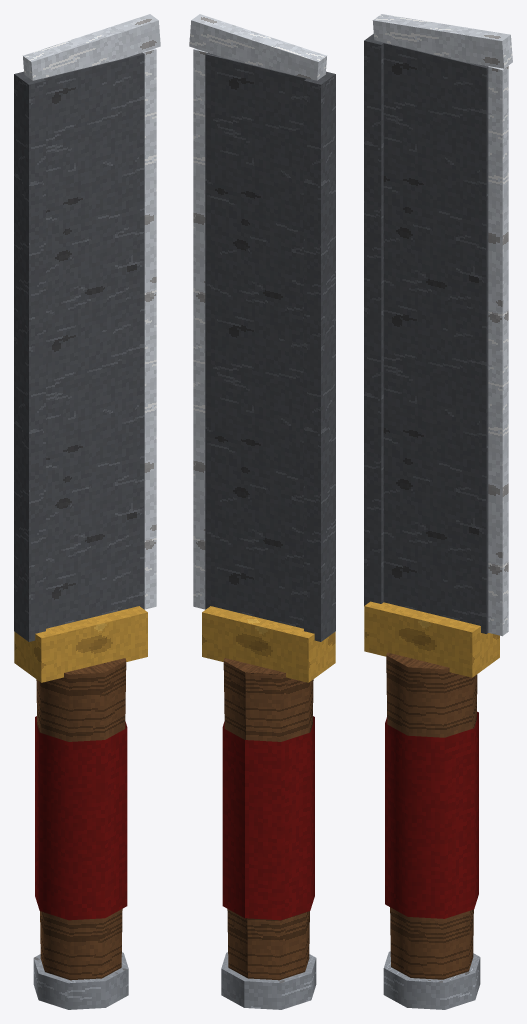
The model's file is item_nata.glb.
3 views of the same model, side by side, from view 1: azimuth 30°, elevation 25°; view 2: azimuth 150°, elevation 25°; view 3: azimuth 330°, elevation 25° (orthographic).
Visible parts, largest first — view 1: item_nata; view 2: item_nata; view 3: item_nata.
Boxes of the visible parts, left/top/right/bottom form: item_nata: left=14, top=14, right=160, bottom=1009; item_nata: left=189, top=14, right=335, bottom=1009; item_nata: left=364, top=14, right=512, bottom=1009.
Size of the model in its own units: 0.0634 by 0.4284 by 0.04.
6 materials, 6 textured.
